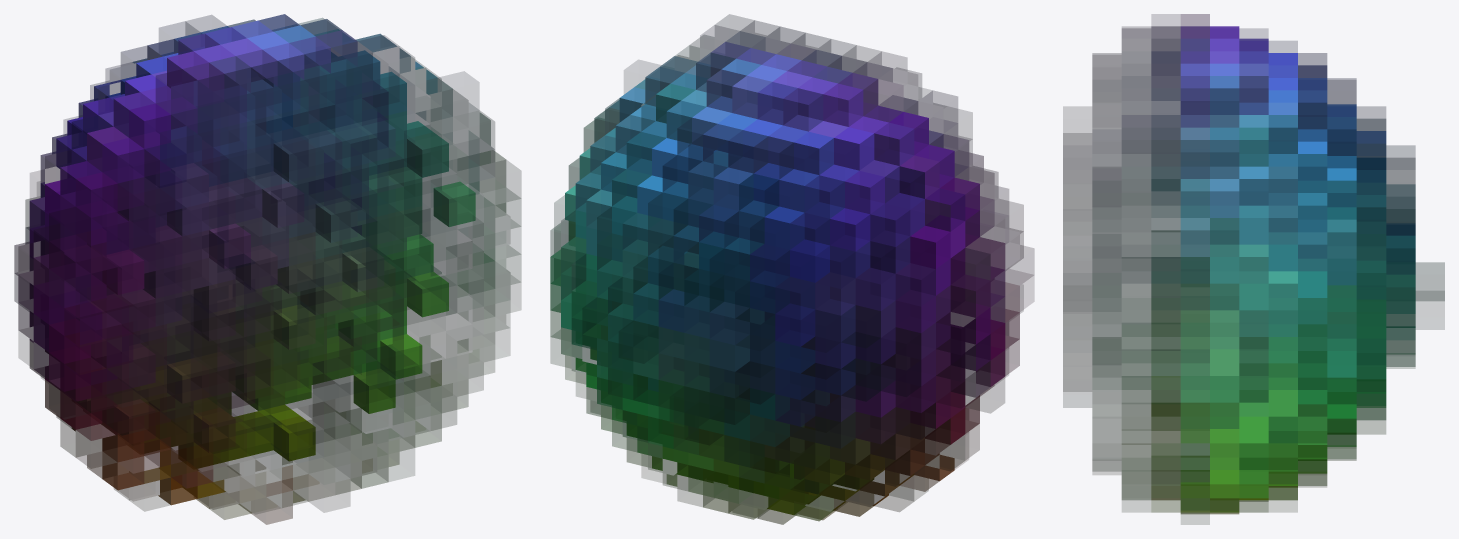
File: regen_iter_10.obj
3 renders of one model, left to right at view 1: azimuth 30°, elevation 25°; view 2: azimuth 150°, elevation 25°; view 3: azimuth 270°, elevation 25°, orthographic. The views are drawn at different scales.
Visible parts, largest first — view 1: regen_iter_10; view 2: regen_iter_10; view 3: regen_iter_10.
Part boxes in pixels (x1,y1,x2,y2): regen_iter_10: [14, 14, 521, 524]; regen_iter_10: [550, 14, 1034, 524]; regen_iter_10: [1063, 14, 1444, 524].
Size of the model in its own units: 1.6 by 1.6 by 1.3.
